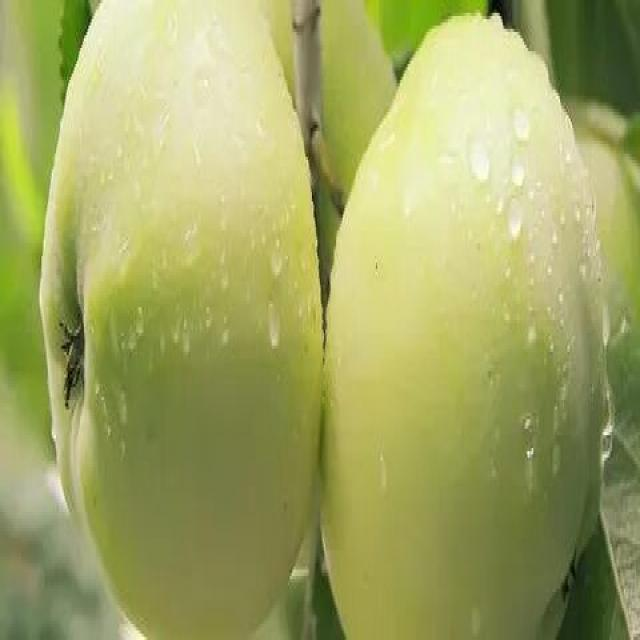Fresh Apple: (338, 18, 618, 640), (53, 28, 322, 637)
